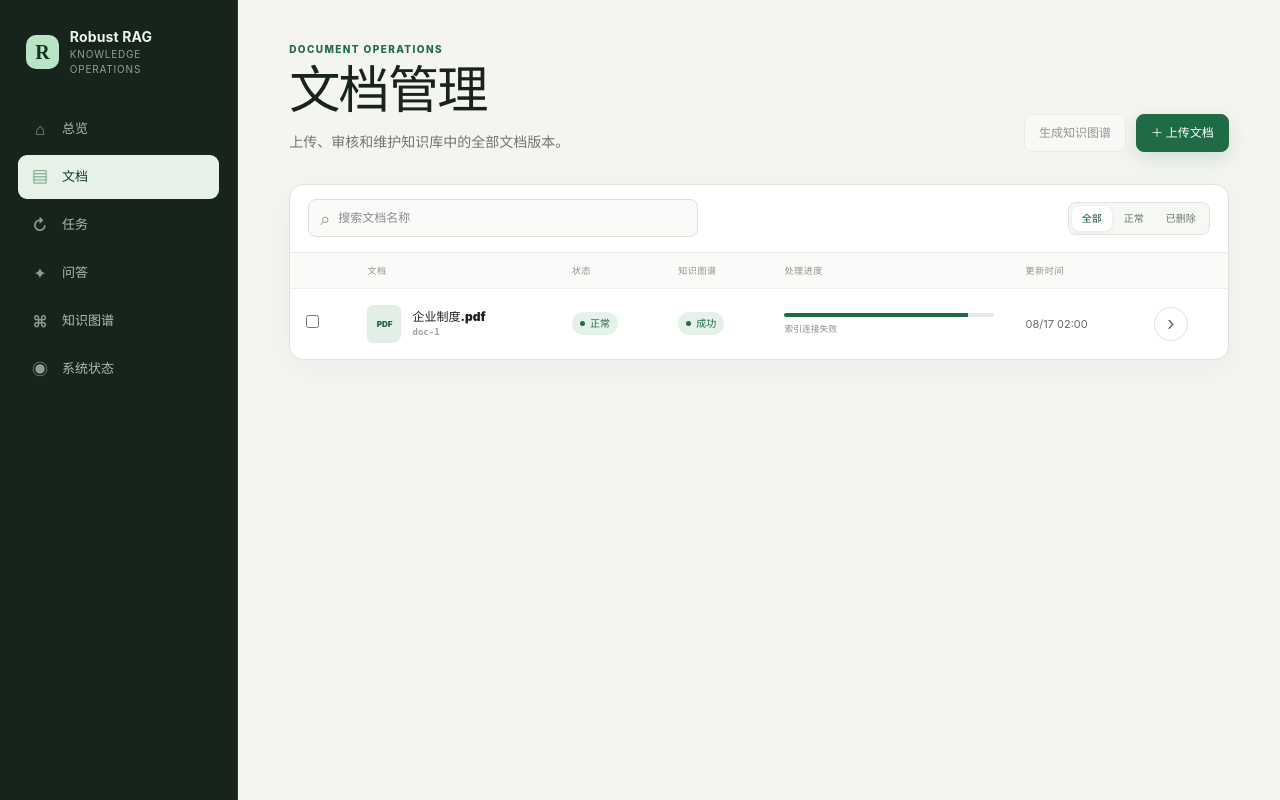
Test: stage 10 application › filters documents and opens version and quality details
The image size is (1280, 800).
Type "制度" into the field with placeholder "搜索文档名称" at x=512, y=218, box [338,209,686,227]
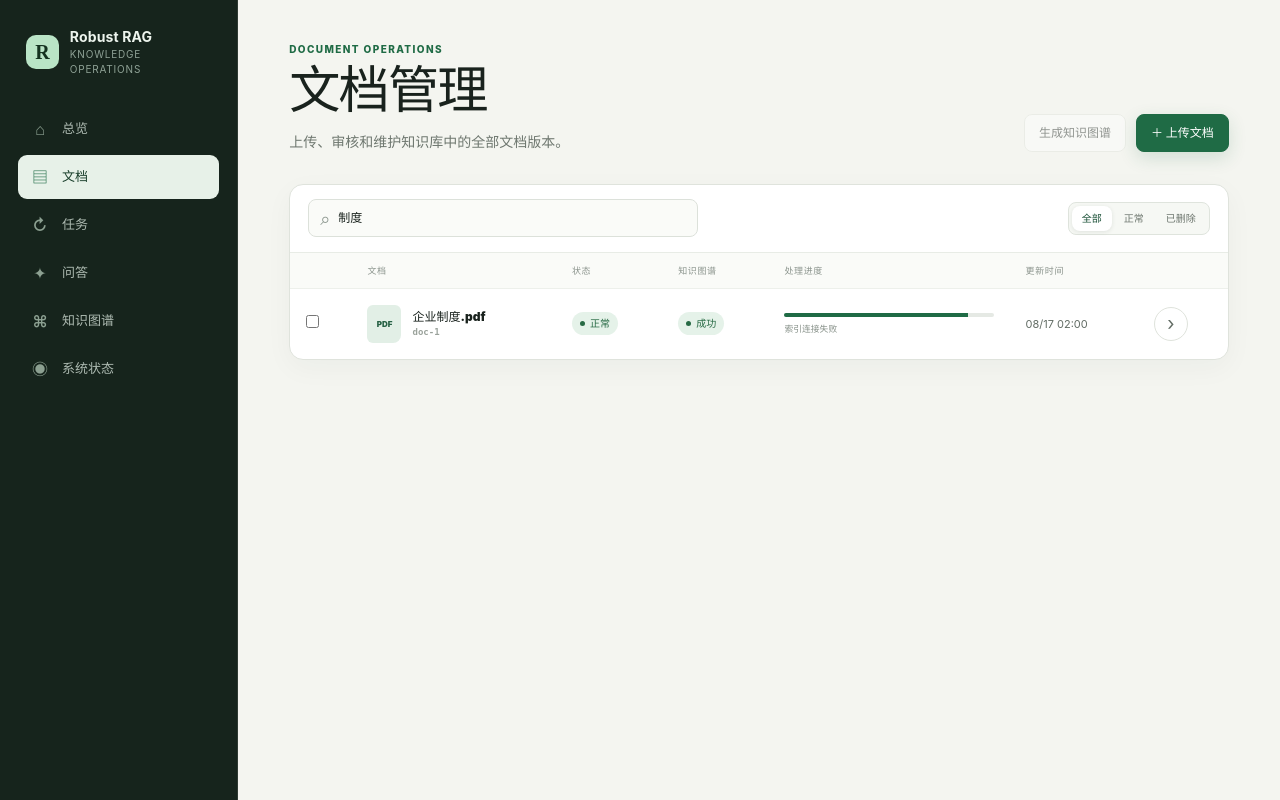
Click the button "PDF 企业制度.pdf doc-1" at x=454, y=324, box [368,305,540,343]
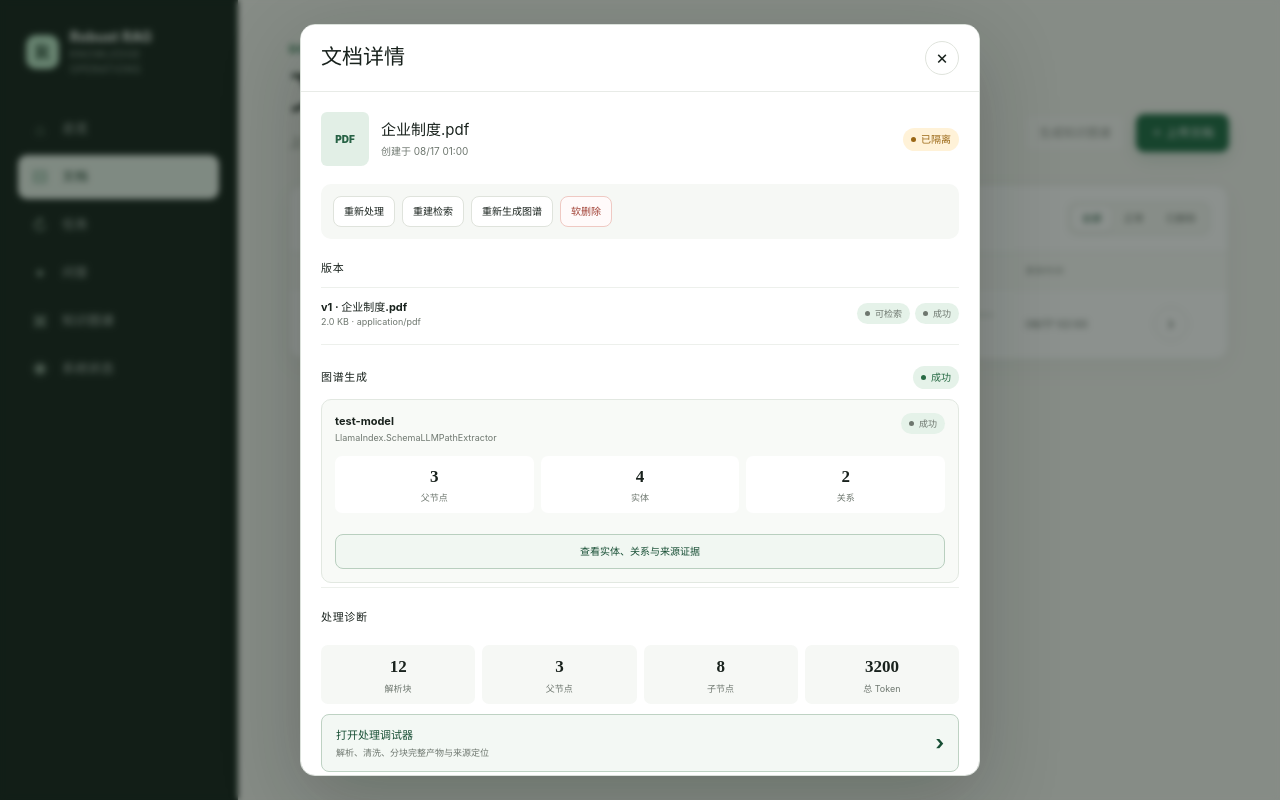
Now the text "可检索" is shown, box [857,303,910,324]
Now the text "成功" next to "可检索" is shown, box [933,308,951,319]
Now the heading "图谱生成" is shown, box [321,369,368,385]
Click the button "重新生成图谱" at x=512, y=212, box [471,196,553,227]
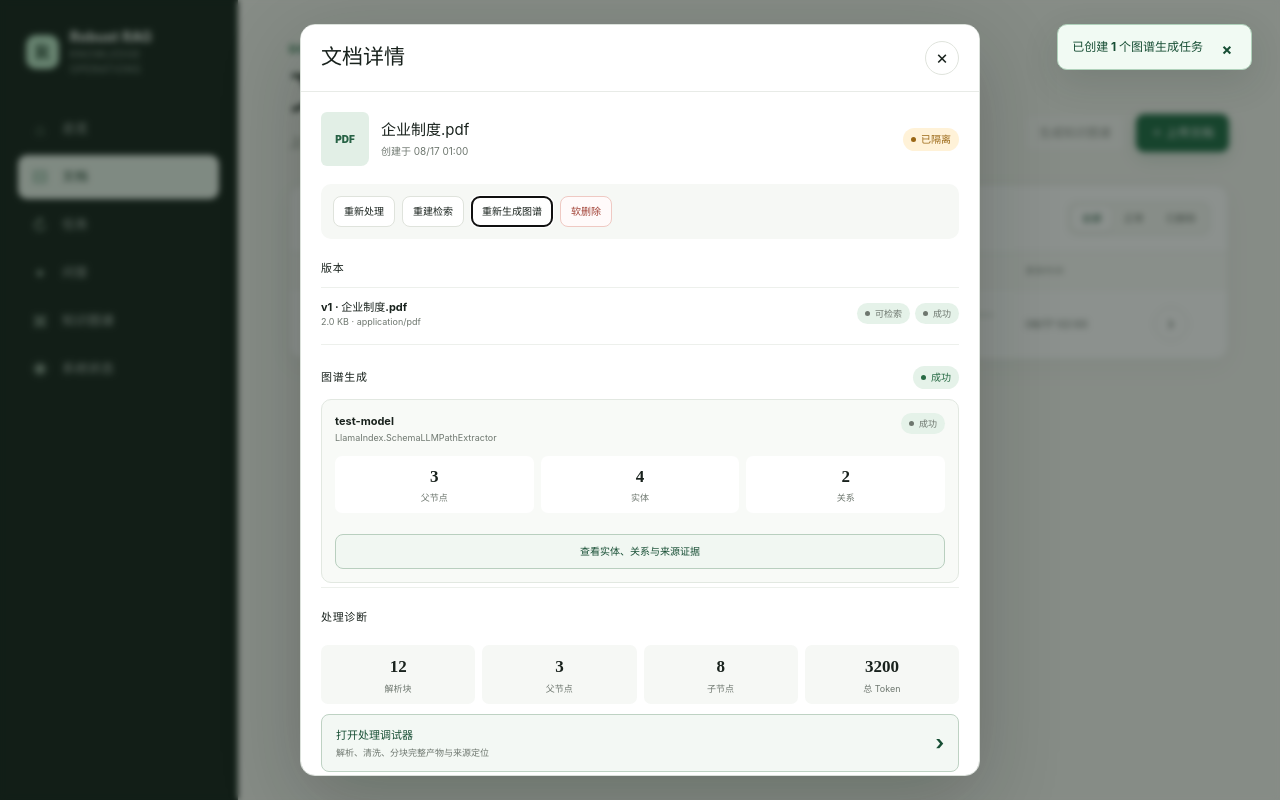
Now the text "已创建 1 个图谱生成任务" is shown, box [1072,39,1203,54]
